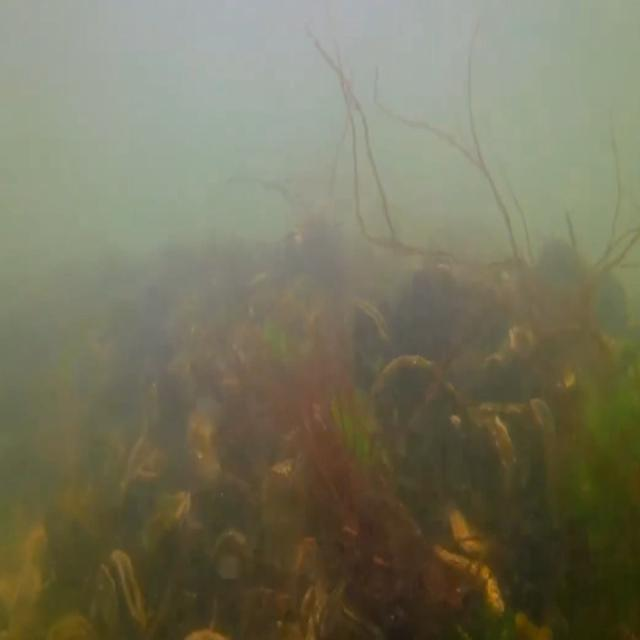Oyster-Closed: (431, 543, 505, 615), (353, 296, 391, 393), (140, 492, 193, 550)
Oyster-Indeterminate: (368, 352, 466, 448), (476, 394, 557, 476), (447, 411, 518, 501), (206, 528, 254, 621), (184, 411, 226, 491), (448, 506, 502, 553), (298, 581, 334, 640), (122, 441, 167, 482)
Oyster-Open: (89, 548, 148, 640)
